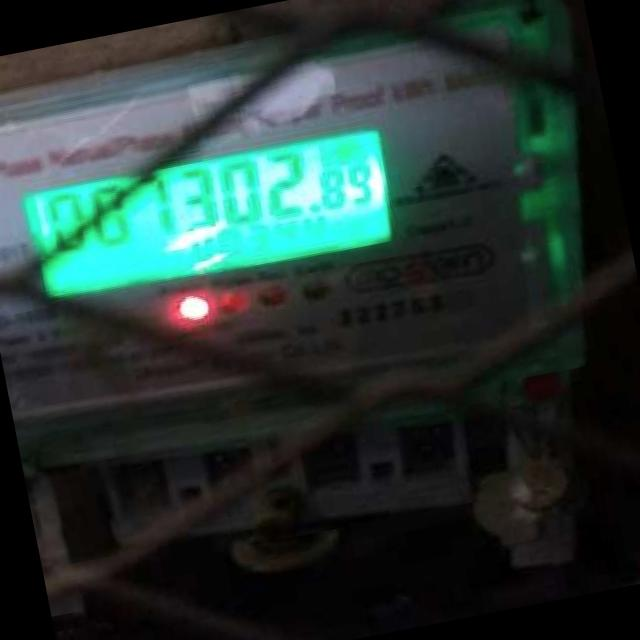LCD: (8, 112, 410, 322)
